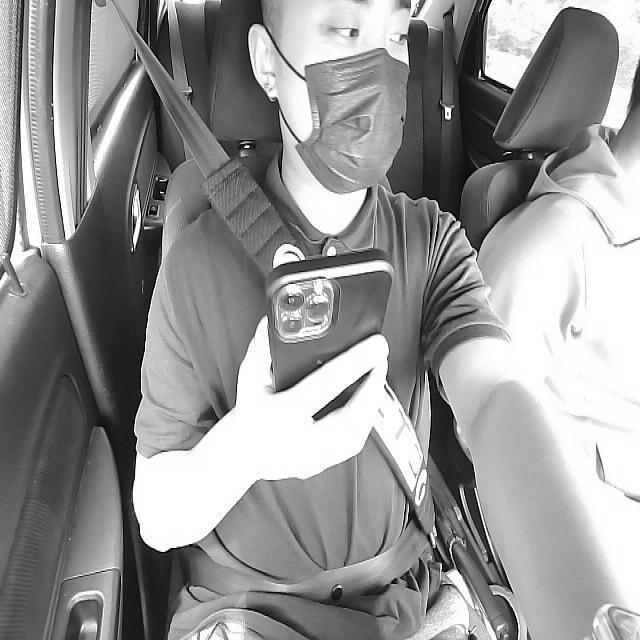phone: (265, 246, 396, 420)
